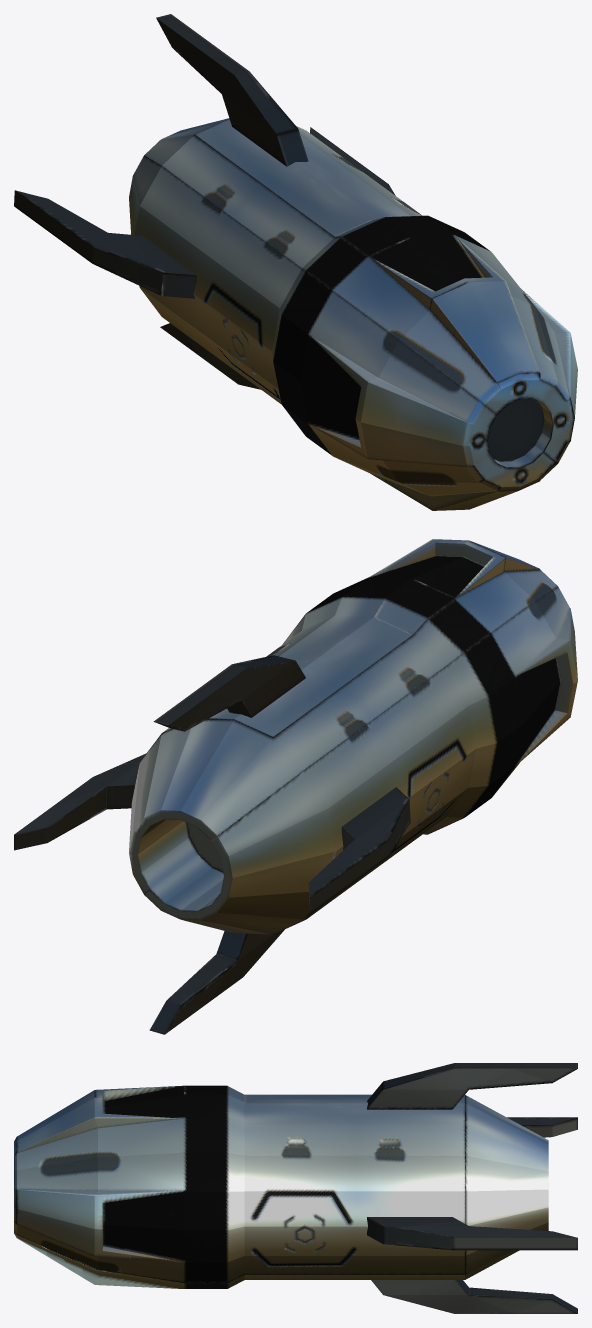
File: rocket.FBX
3 views of the same model, one above another, from view 1: azimuth 30°, elevation 25°; view 2: azimuth 150°, elevation 25°; view 3: azimuth 270°, elevation 25° (orthographic). The views are drawn at different scales.
Visible parts, largest first — view 1: Object022; view 2: Object022; view 3: Object022.
Boxes of the visible parts, bbox=[...] form: Object022: bbox=[14, 14, 577, 510]; Object022: bbox=[14, 539, 577, 1034]; Object022: bbox=[14, 1063, 577, 1313].
Bounding box in the file's own units: 21.64 × 21.65 × 45.32.
1 material, 1 textured.
